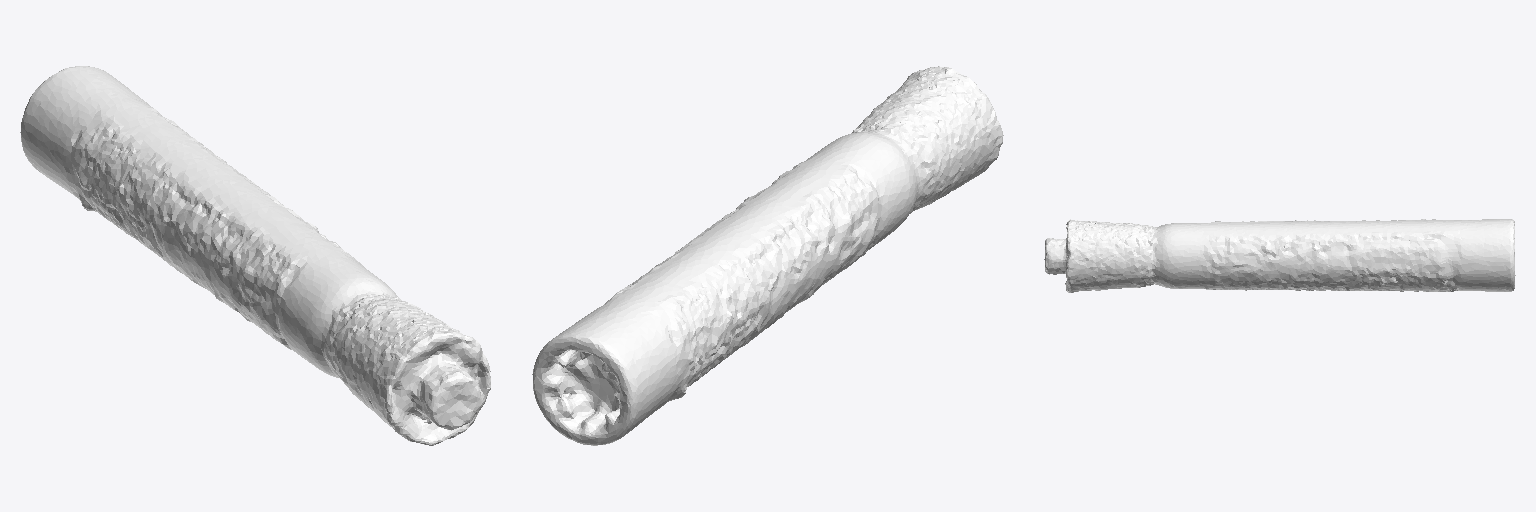
The robot description file, URDF, robot "large_marker":
<robot name="large_marker">
    <link name="base_link">
        <visual>
            <origin xyz="-0.0 -0.0 0.0" rpy="0.0 0.0 0.0" />
            <geometry>
                <mesh filename="large_marker/textured.obj" scale="1 1 1" />
            </geometry>
            <material name="texture">
                <color rgba="1.0 1.0 1.0 1.0" />
            </material>
        </visual>
        <collision>
            <origin xyz="-0.0 -0.0 0.0" rpy="0.0 0.0 0.0" />
            <geometry>
                <mesh filename="large_marker/textured_coacd_0.stl" scale="1 1 1" />
            </geometry>
        </collision>
        <collision>
            <origin xyz="-0.0 -0.0 0.0" rpy="0.0 0.0 0.0" />
            <geometry>
                <mesh filename="large_marker/textured_coacd_1.stl" scale="1 1 1" />
            </geometry>
        </collision>
        <collision>
            <origin xyz="-0.0 -0.0 0.0" rpy="0.0 0.0 0.0" />
            <geometry>
                <mesh filename="large_marker/textured_coacd_2.stl" scale="1 1 1" />
            </geometry>
        </collision>
        <collision>
            <origin xyz="-0.0 -0.0 0.0" rpy="0.0 0.0 0.0" />
            <geometry>
                <mesh filename="large_marker/textured_coacd_3.stl" scale="1 1 1" />
            </geometry>
        </collision>
        <collision>
            <origin xyz="-0.0 -0.0 0.0" rpy="0.0 0.0 0.0" />
            <geometry>
                <mesh filename="large_marker/textured_coacd_4.stl" scale="1 1 1" />
            </geometry>
        </collision>
        <inertial>
            <mass value="0.0158" />
            <inertia ixx="1e-3" ixy="0.0" ixz="0.0" iyy="1e-3" iyz="0.0" izz="1e-3" />
        </inertial>
    </link>
</robot>

--- What the picture shows (computed from the rendered views, not written in the file) ---
The picture shows the robot from 3 angles, left to right: view 1: azimuth 30°, elevation 25°; view 2: azimuth 150°, elevation 25°; view 3: azimuth 270°, elevation 25°; orthographic projection.
Robot: large_marker — 1 links, 0 joints (none); root link base_link; default pose: every joint at zero.
Visible links, largest first — view 1: base_link; view 2: base_link; view 3: base_link.
Link boxes in pixels (box(x1,y1,x2,y2)): base_link: box(20, 66, 490, 445); base_link: box(532, 66, 1003, 445); base_link: box(1044, 219, 1515, 292).
Bounding box of the posed robot: 0.0188 × 0.1208 × 0.0188 m (x, y, z).
Meshes: 1 distinct files referenced, 1 mesh visuals loaded (1 OBJ).